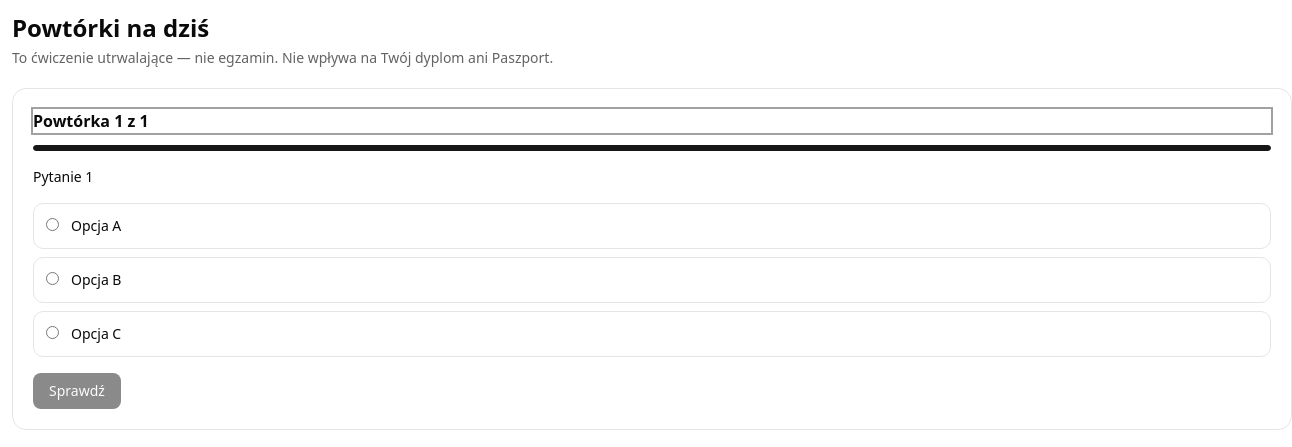
it: ReviewRunner — ocena i werdykt › poprawna odpowiedź → werdykt w <output> z treścią WPROST z API
This screenshot has width=1292, height=447.
Expected: the heading "Powtórka 1 z 1" is shown, x1=33 y1=109 x2=1271 y2=133
Click the radio button labelled "Opcja A".
click(52, 224)  # box x1=46 y1=218 x2=59 y2=231
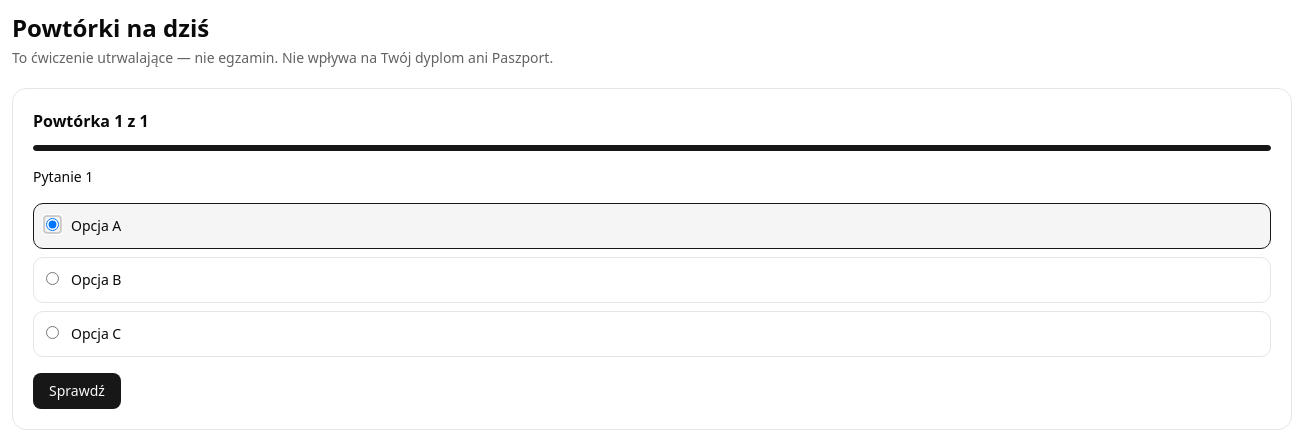
Click the button "Sprawdź".
click(77, 391)  # box x1=33 y1=373 x2=121 y2=409
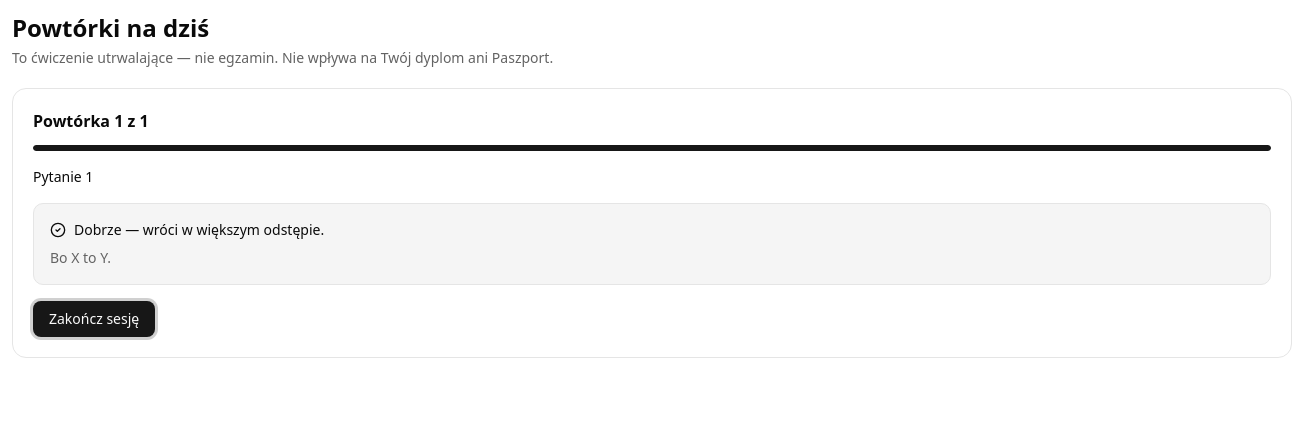
Expected: the text "Dobrze — wróci w większym odstępie." is shown, x1=74 y1=220 x2=324 y2=239
Expected: the text "Bo X to Y." is shown, x1=50 y1=248 x2=111 y2=267
